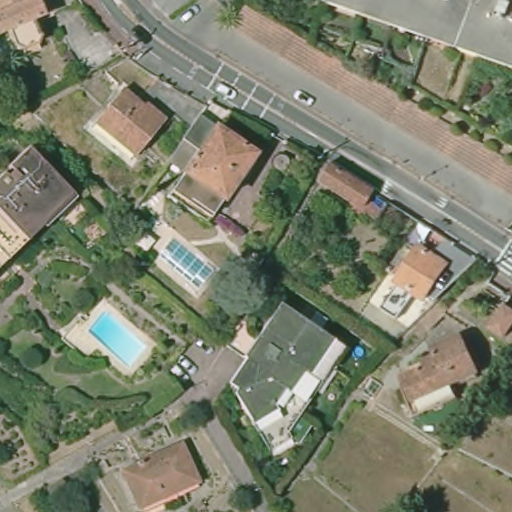pool: (86, 308, 147, 370), (158, 237, 223, 294), (351, 345, 371, 360)
